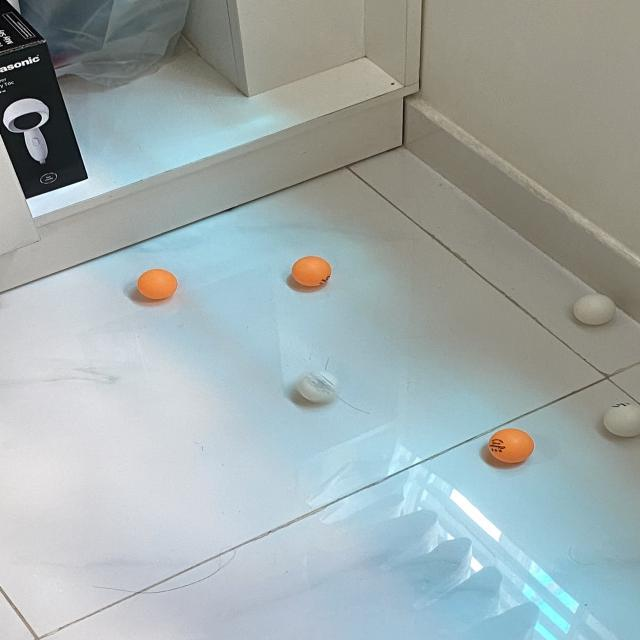ping-pong-ball: (491, 428, 535, 464), (296, 369, 341, 403), (574, 293, 618, 327), (605, 400, 640, 438), (138, 268, 178, 301), (294, 256, 332, 288)
